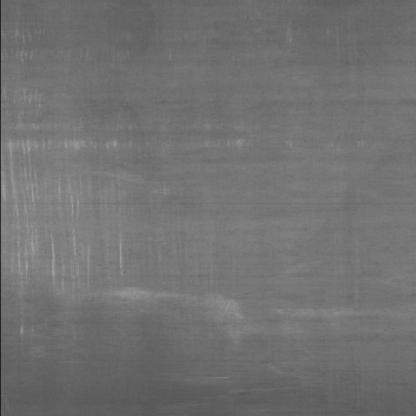waist_folding: (0, 68, 278, 349)
